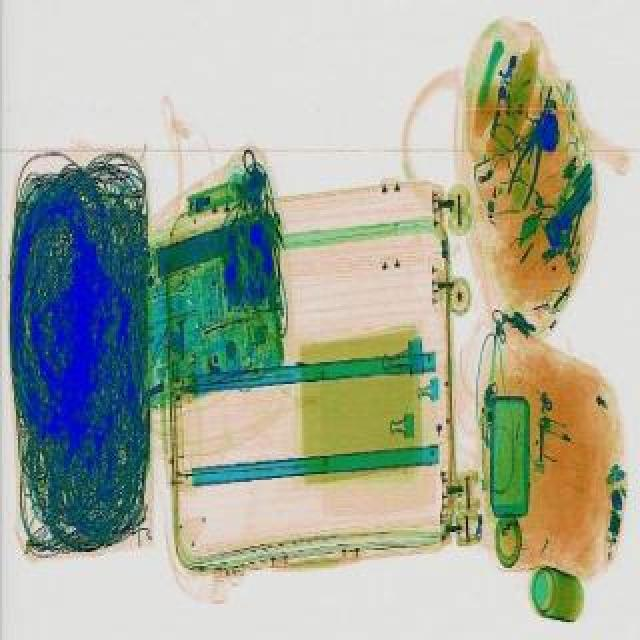wrench: (502, 100, 558, 208)
